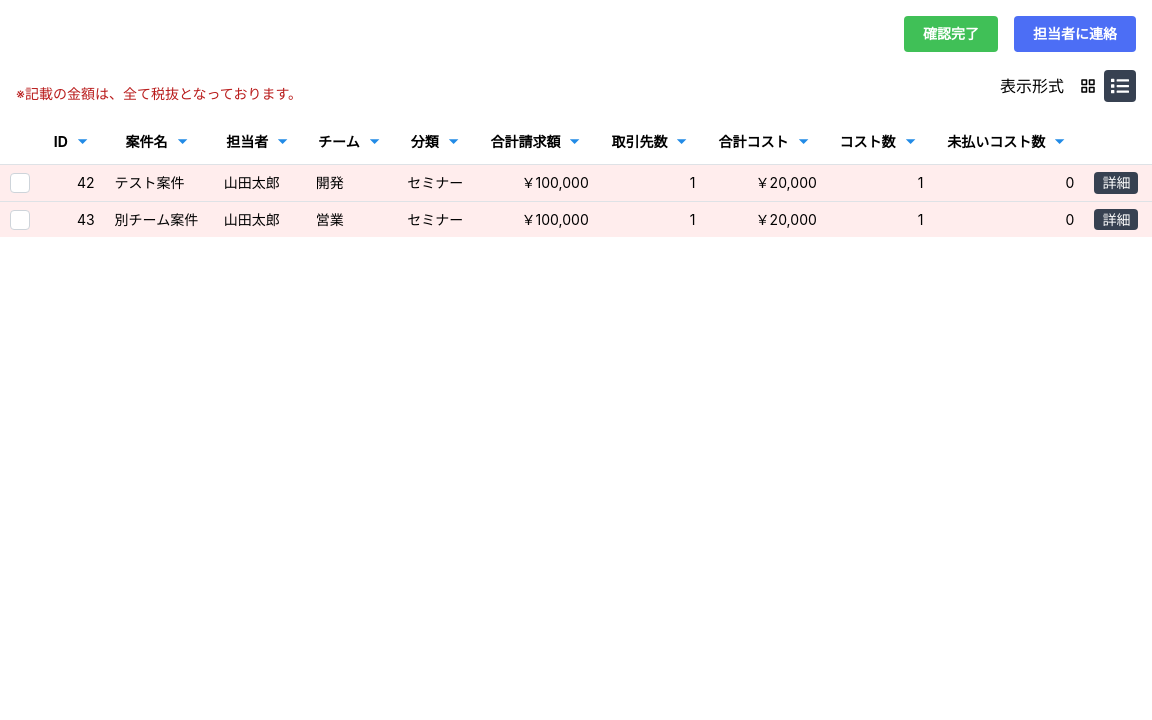
Scenario: AccountingMatterList › 一部が非表示のとき対象外を確認し、完了した ID だけチェックを外す
This screenshot has width=1152, height=720.
Click the checkbox named "案件チェック" next to "42" at (20, 183), box [10, 173, 30, 193]
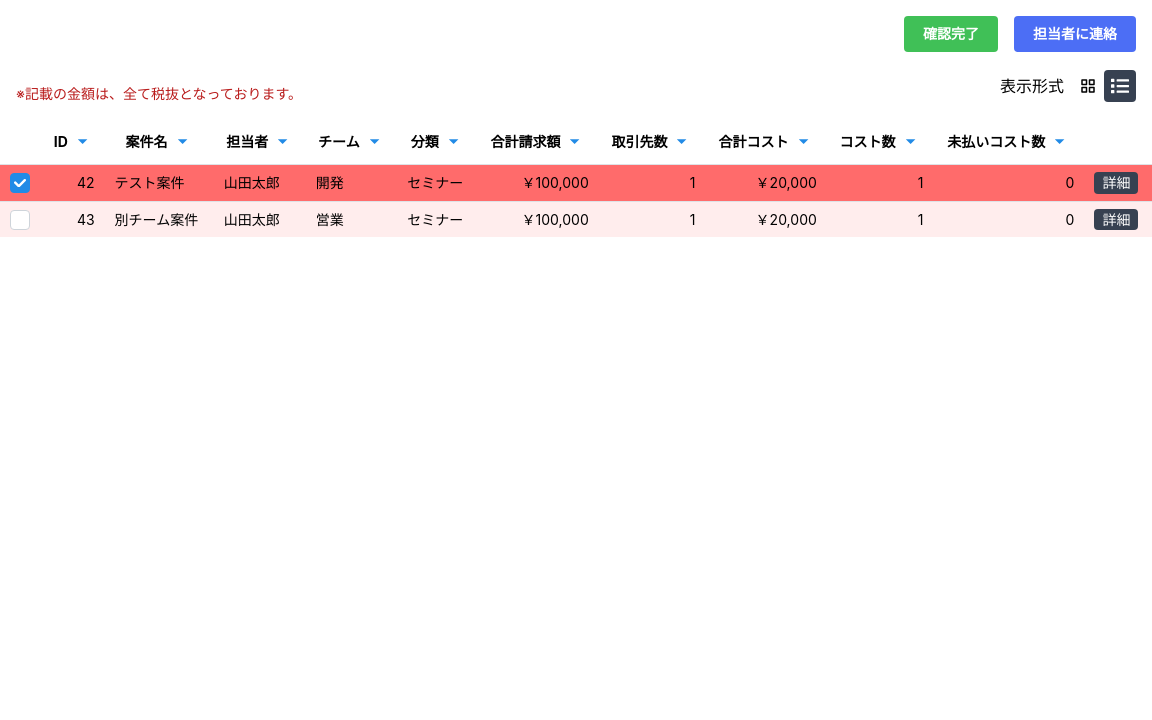
Click the checkbox named "案件チェック" next to "43" at (20, 220), box [10, 210, 30, 230]
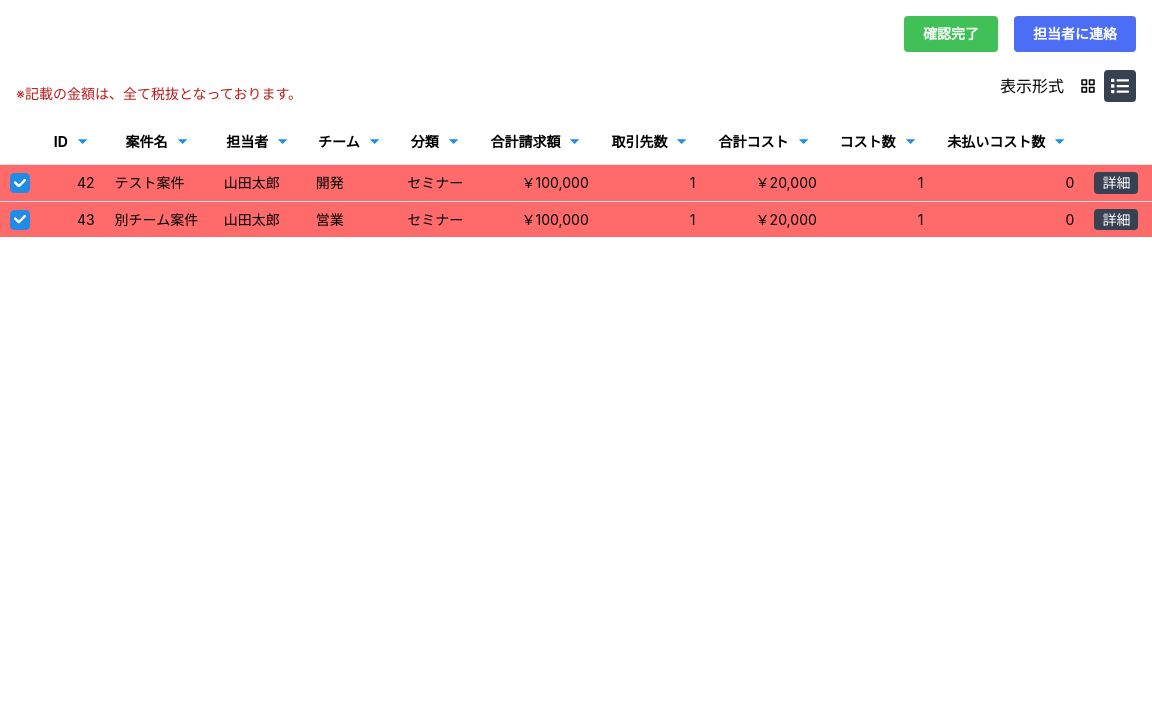
Click the button named "チームの絞り込み" at (374, 142), box [364, 127, 385, 157]
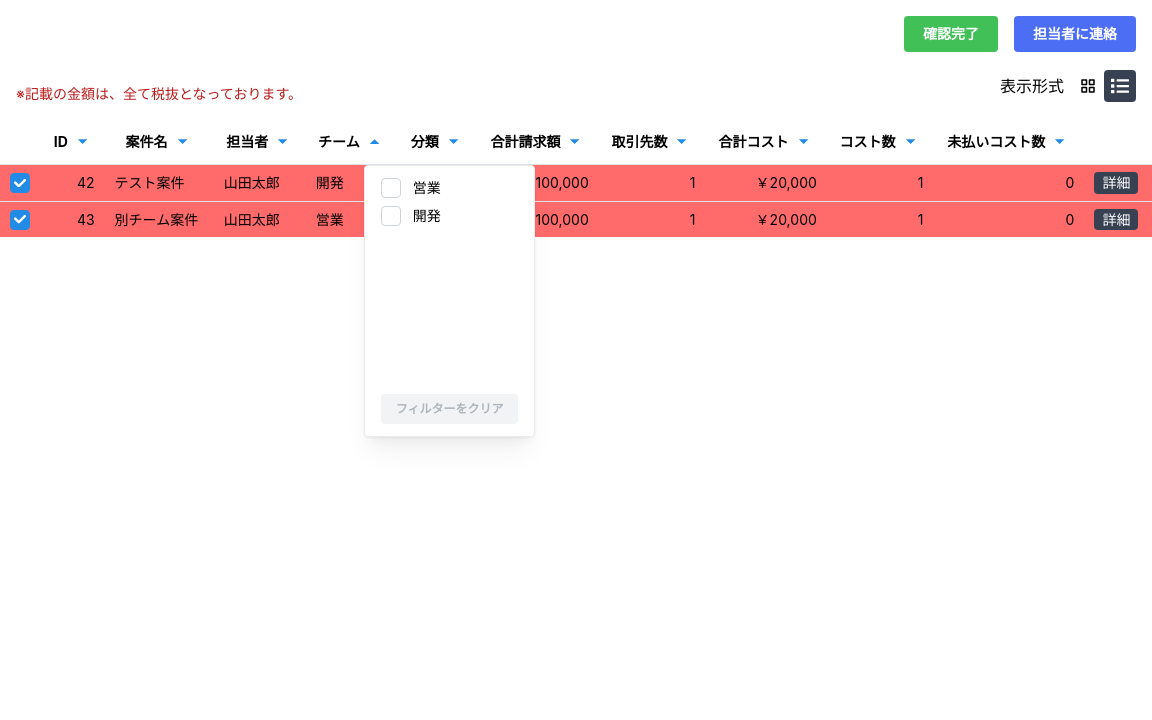
Click the checkbox labelled "開発" at (391, 216), box [381, 206, 401, 226]
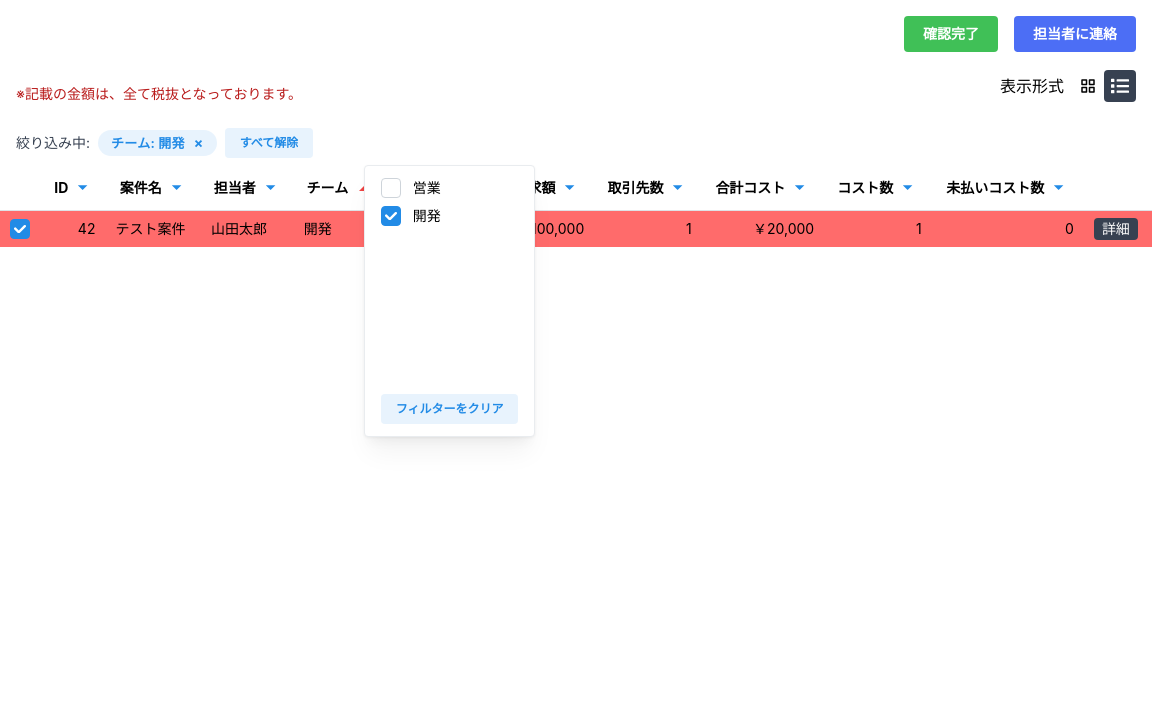
Click the button "確認完了" at (951, 34), box [904, 16, 998, 52]
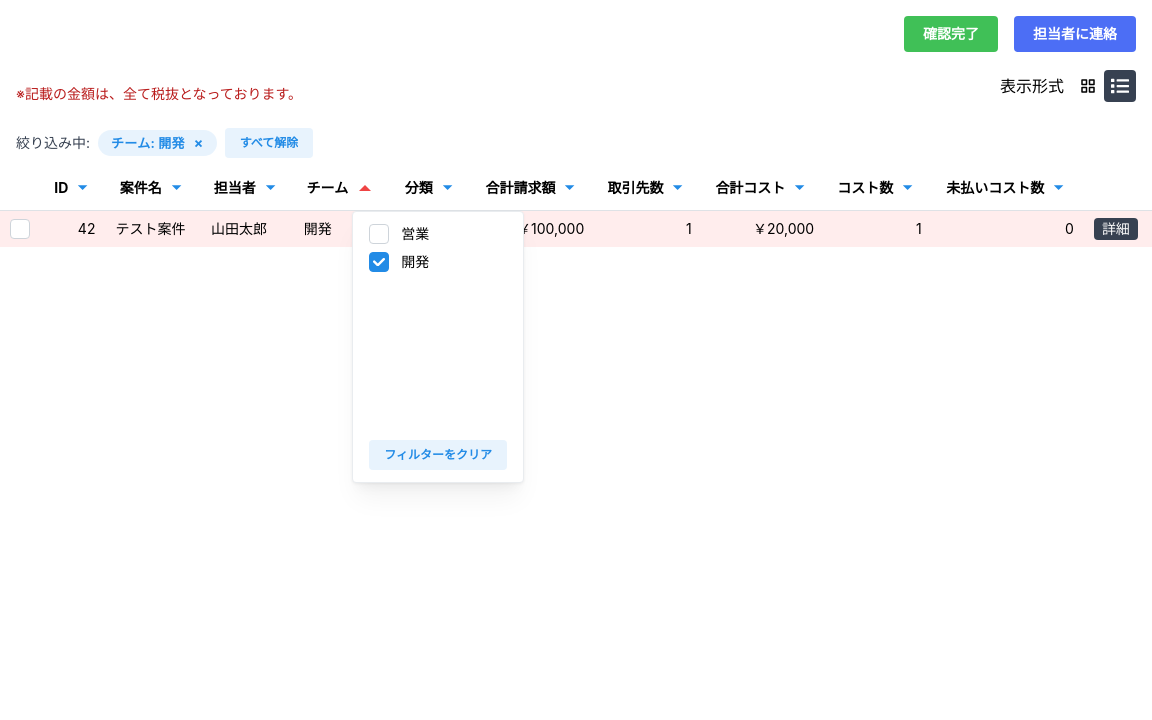
Now the checkbox named "案件チェック" is not checked, box [10, 219, 30, 239]
Click the button "すべて解除" at (269, 143), box [225, 128, 313, 158]
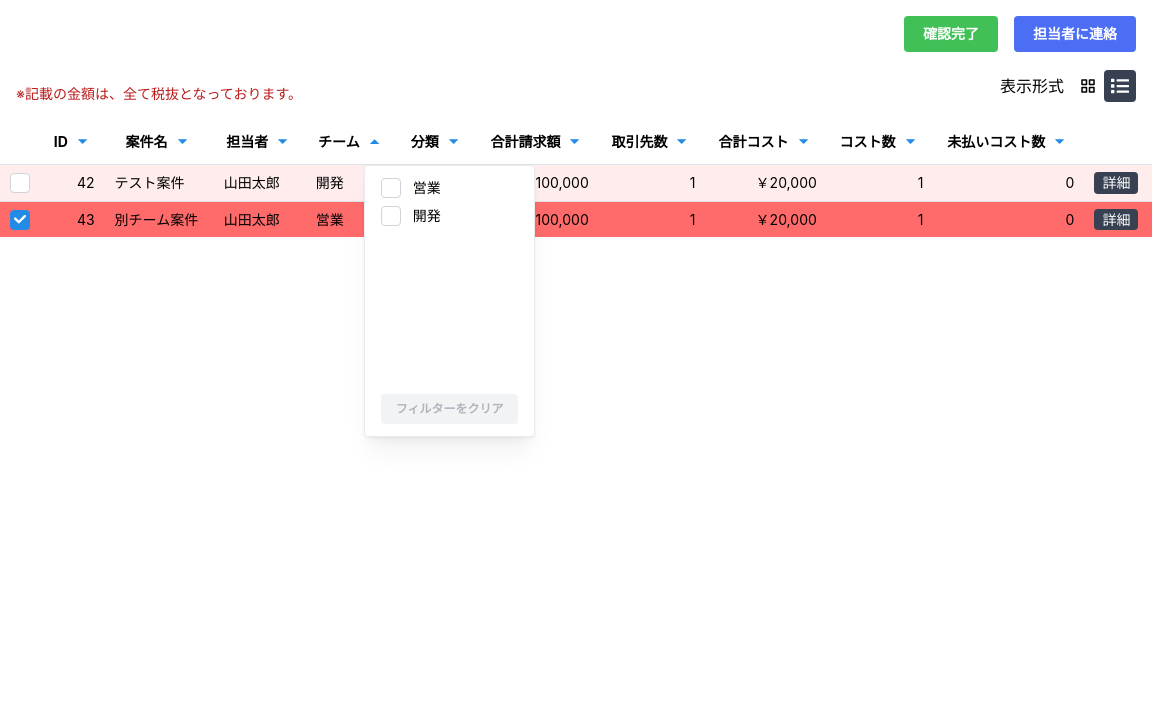
Now the checkbox named "案件チェック" next to "42" is not checked, box [10, 173, 30, 193]
Now the checkbox named "案件チェック" next to "43" is checked, box [10, 210, 30, 230]
